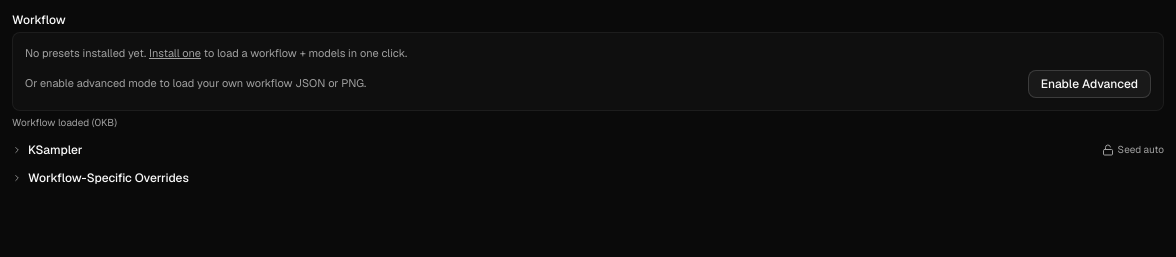
Test: ComfyGen _ComfyGen suffix overrides › hides a field already driven by another panel (KSampler steps), keeps siblings
The image size is (1176, 257).
Click the button "Workflow-Specific Overrides" at (100, 178), box top-left (12, 170), bottom-right (189, 186)
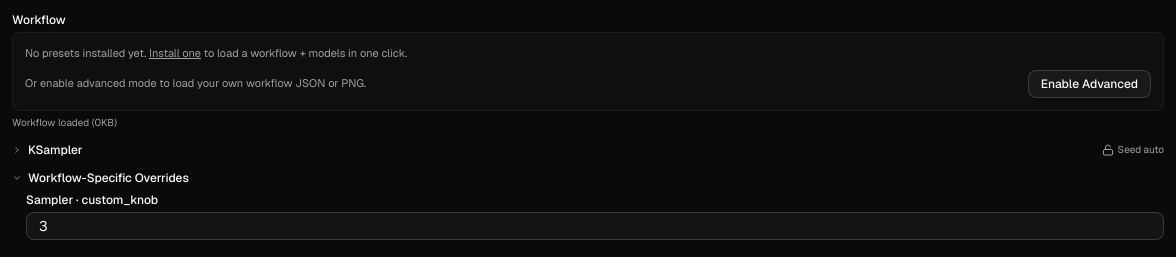
Check: the text "Sampler · custom_knob" is shown, box top-left (26, 192), bottom-right (158, 208)
